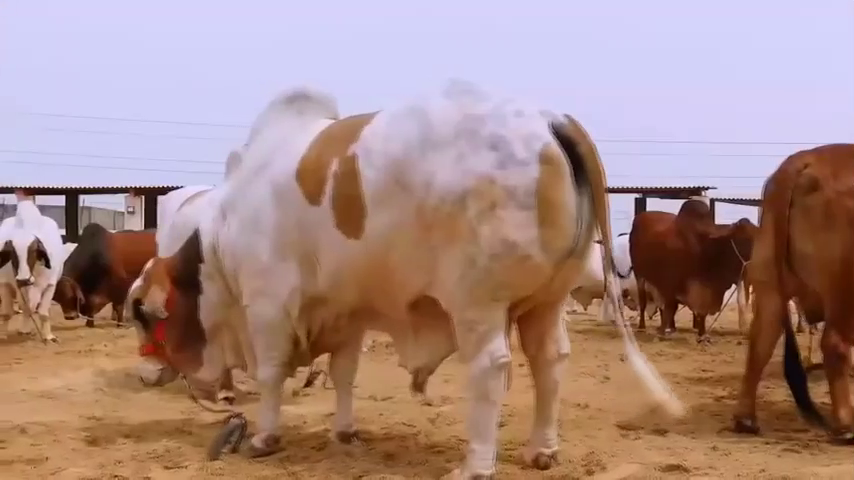bo: (111, 79, 702, 480), (724, 128, 854, 462), (628, 192, 764, 341), (37, 190, 168, 337), (1, 185, 68, 358), (598, 224, 644, 321)
